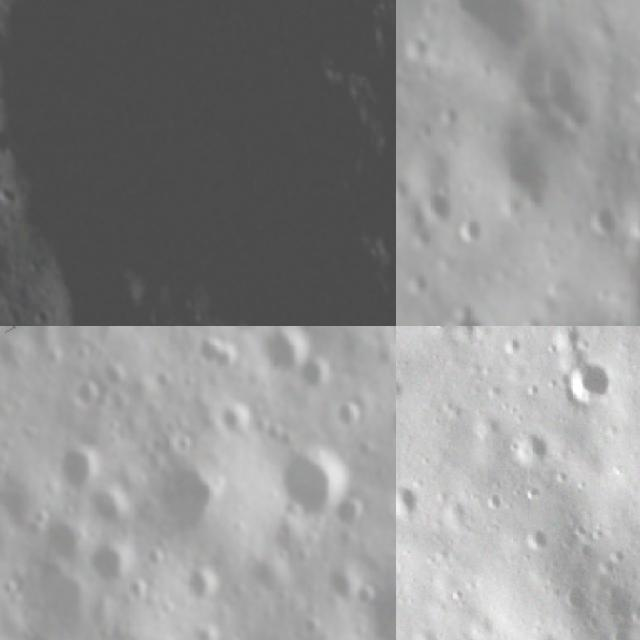crater: (0, 0, 390, 320), (276, 441, 356, 516), (161, 470, 238, 535), (542, 57, 600, 140), (557, 350, 623, 416), (259, 326, 313, 374), (504, 428, 552, 472), (88, 484, 134, 525), (56, 441, 96, 487), (88, 544, 131, 584), (396, 477, 428, 526), (330, 490, 369, 530), (296, 356, 335, 396), (588, 197, 622, 240), (438, 301, 496, 326), (423, 186, 459, 226), (182, 562, 217, 600), (67, 378, 104, 413), (333, 399, 367, 432), (520, 524, 550, 560), (456, 215, 488, 247), (404, 33, 430, 66), (352, 582, 382, 608), (346, 0, 396, 15), (408, 266, 434, 294), (441, 99, 463, 132), (298, 613, 324, 638), (0, 127, 20, 156), (152, 370, 176, 392)
